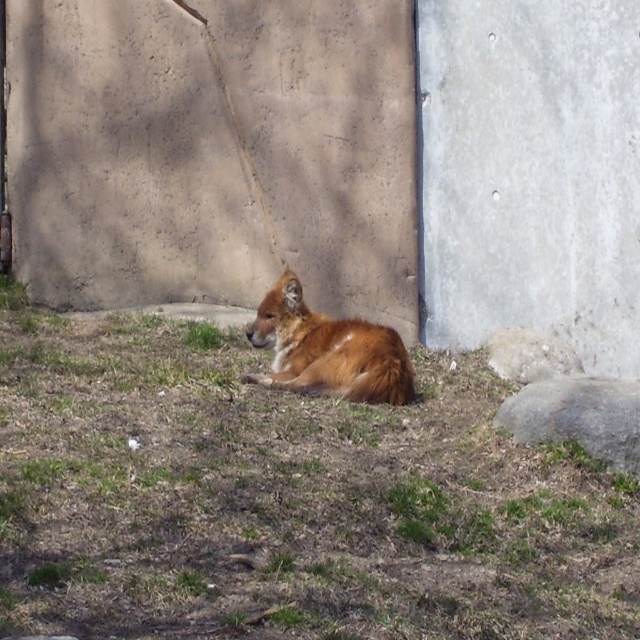Fox: (237, 269, 417, 406)
